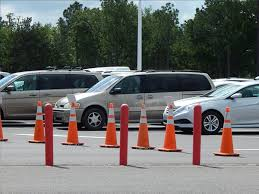car: (54, 72, 215, 127), (163, 81, 259, 132), (1, 72, 106, 117)
cone: (214, 106, 239, 156), (159, 104, 182, 154), (132, 104, 155, 150), (61, 101, 83, 145), (102, 101, 121, 148), (29, 100, 45, 143), (1, 112, 7, 142)
